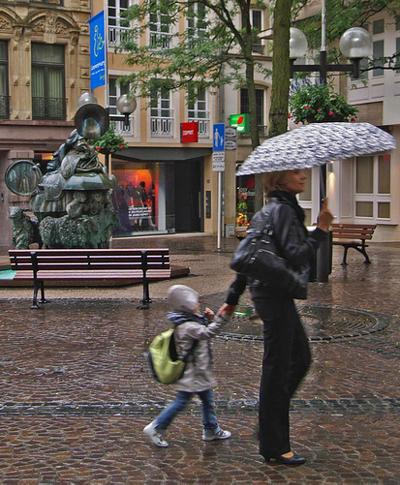person: (219, 167, 334, 466)
